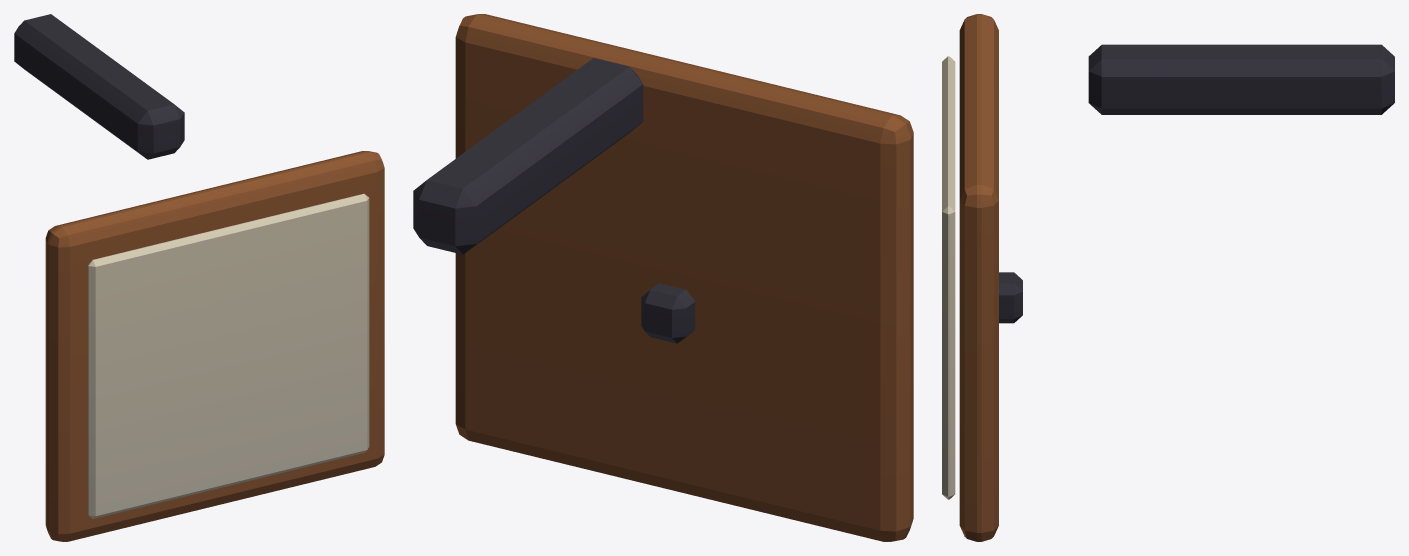
The model's file is sign_bracket.glb.
3 views of the same model, side by side, from view 1: azimuth 30°, elevation 25°; view 2: azimuth 150°, elevation 25°; view 3: azimuth 270°, elevation 25° (orthographic). The views are drawn at different scales.
Parts seen in each view (by area): view 1: sign_bracket; view 2: sign_bracket; view 3: sign_bracket.
Part boxes in pixels (x1,y1,x2,y2): sign_bracket: [14, 14, 384, 541]; sign_bracket: [413, 14, 913, 541]; sign_bracket: [942, 14, 1394, 541].
Size of the model in its own units: 1 by 1.02 by 1.03.
